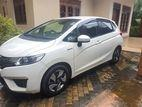car: (0, 16, 124, 97)
